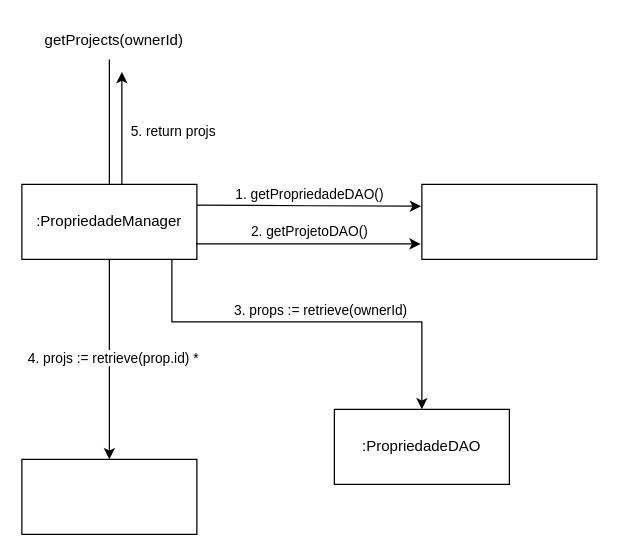
Some shapes in this 619 by 556 pixel diagram are drawn without their labels. The centre of each missing label's shape, as x and y in pixels:
:DaoManager: (x=509, y=221)
:ProjetoDAO: (x=109, y=496)
